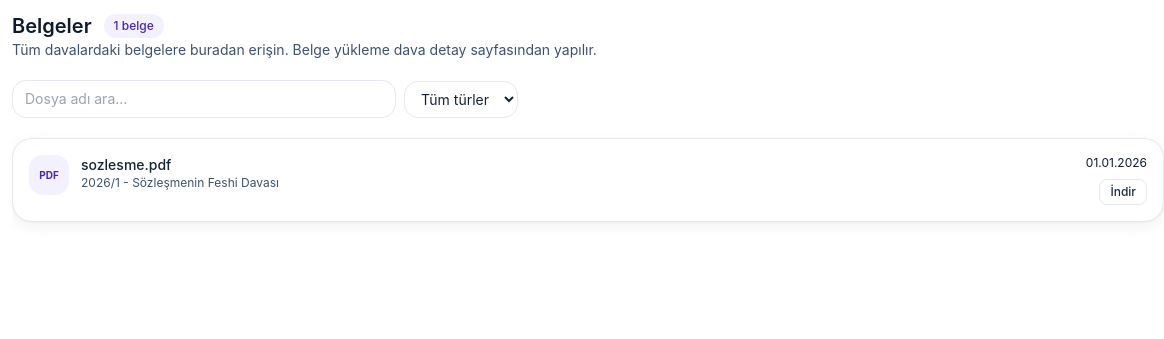
Test case: DocumentsView › shows an error when the download fails
The image size is (1164, 339).
Click the button with aria-label "sozlesme.pdf indir" at [1123, 192], box [1099, 179, 1147, 205]
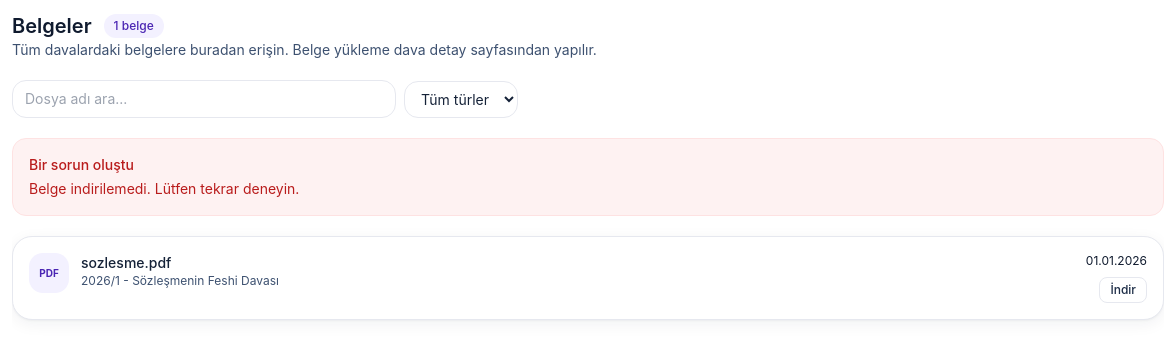
Now the text "Belge indirilemedi. Lütfen tekrar deneyin." is shown, box [29, 179, 299, 199]
